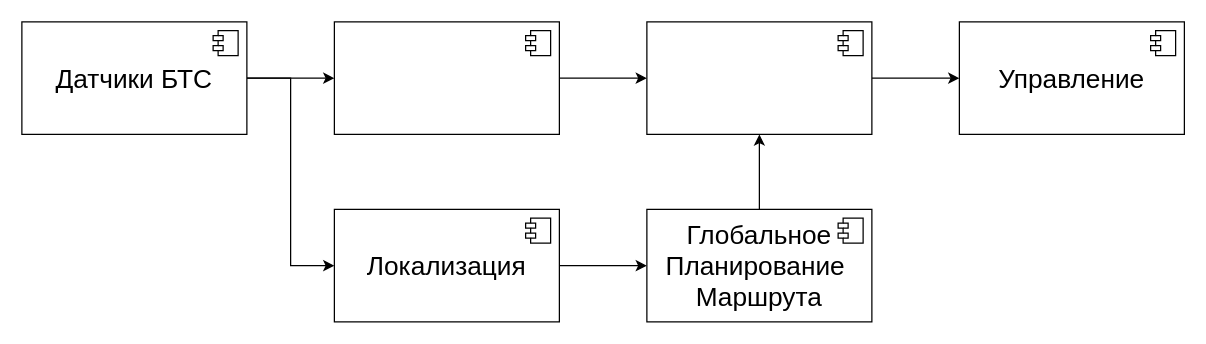
Image size: 1206x344. Some labels were removed from this diagram. Each missing label, with the box of its shape:
Восприятие: (333, 21, 559, 134)
Локальное Планирование Маршрута: (646, 21, 872, 134)
